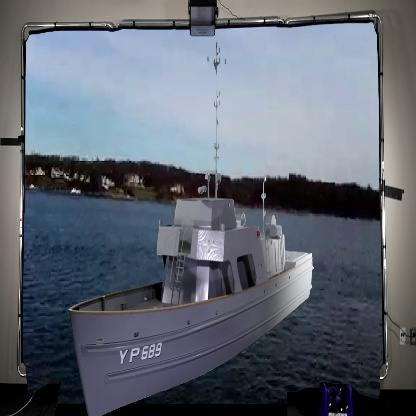YP689: (65, 42, 317, 416)
